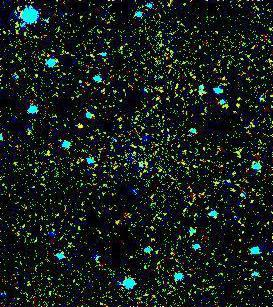star: (64, 111, 94, 141)
